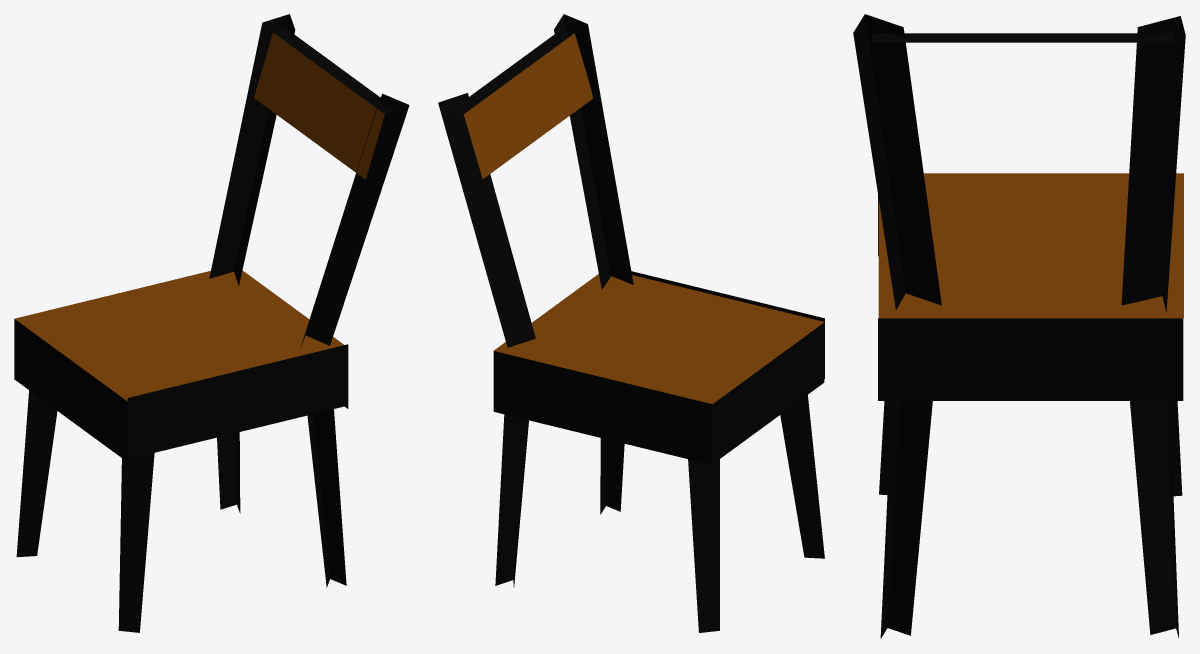
Rendered from Stuhl_Schlicht_2092.glb.
3 views of the same model, side by side, from view 1: azimuth 30°, elevation 25°; view 2: azimuth 150°, elevation 25°; view 3: azimuth 270°, elevation 25° (orthographic). The views are drawn at different scales.
Parts seen in each view (by area): view 1: pPlaneShape199, pPlaneShape197, pCylinderShape262, pPlaneShape202, pCylinderShape265, pPlaneShape198, pCylinderShape263, pCylinderShape264, pPlaneShape203; view 2: pPlaneShape199, pPlaneShape201, pCylinderShape265, pCylinderShape262, pPlaneShape202, pPlaneShape198, pCylinderShape264, pCylinderShape263, pPlaneShape203, pPlaneShape197; view 3: pPlaneShape199, pPlaneShape200, pCylinderShape262, pCylinderShape265, pPlaneShape203, pCylinderShape264, pCylinderShape263.
Part boxes in pixels (<box>): pPlaneShape199: <box>15,270,343,401</box>; pPlaneShape197: <box>127,344,348,458</box>; pCylinderShape262: <box>300,93,409,587</box>; pPlaneShape202: <box>254,32,384,179</box>; pCylinderShape265: <box>209,14,295,513</box>; pPlaneShape198: <box>15,319,128,462</box>; pCylinderShape263: <box>118,453,154,632</box>; pCylinderShape264: <box>16,390,57,557</box>; pPlaneShape203: <box>272,28,396,113</box>; pPlaneShape199: <box>494,274,824,404</box>; pPlaneShape201: <box>493,351,712,464</box>; pCylinderShape265: <box>438,93,535,587</box>; pCylinderShape262: <box>554,14,633,514</box>; pPlaneShape202: <box>463,33,592,178</box>; pPlaneShape198: <box>712,323,824,463</box>; pCylinderShape264: <box>688,459,719,632</box>; pCylinderShape263: <box>780,395,824,558</box>; pPlaneShape203: <box>450,30,574,114</box>; pPlaneShape197: <box>631,271,824,378</box>; pPlaneShape199: <box>878,173,1183,318</box>; pPlaneShape200: <box>878,318,1183,400</box>; pCylinderShape262: <box>853,14,941,638</box>; pCylinderShape265: <box>1121,16,1185,638</box>; pPlaneShape203: <box>872,33,1174,42</box>; pCylinderShape264: <box>1170,401,1182,496</box>; pCylinderShape263: <box>879,401,891,494</box>.
Size of the model in its own units: 0.0765 by 0.1259 by 0.0592.
